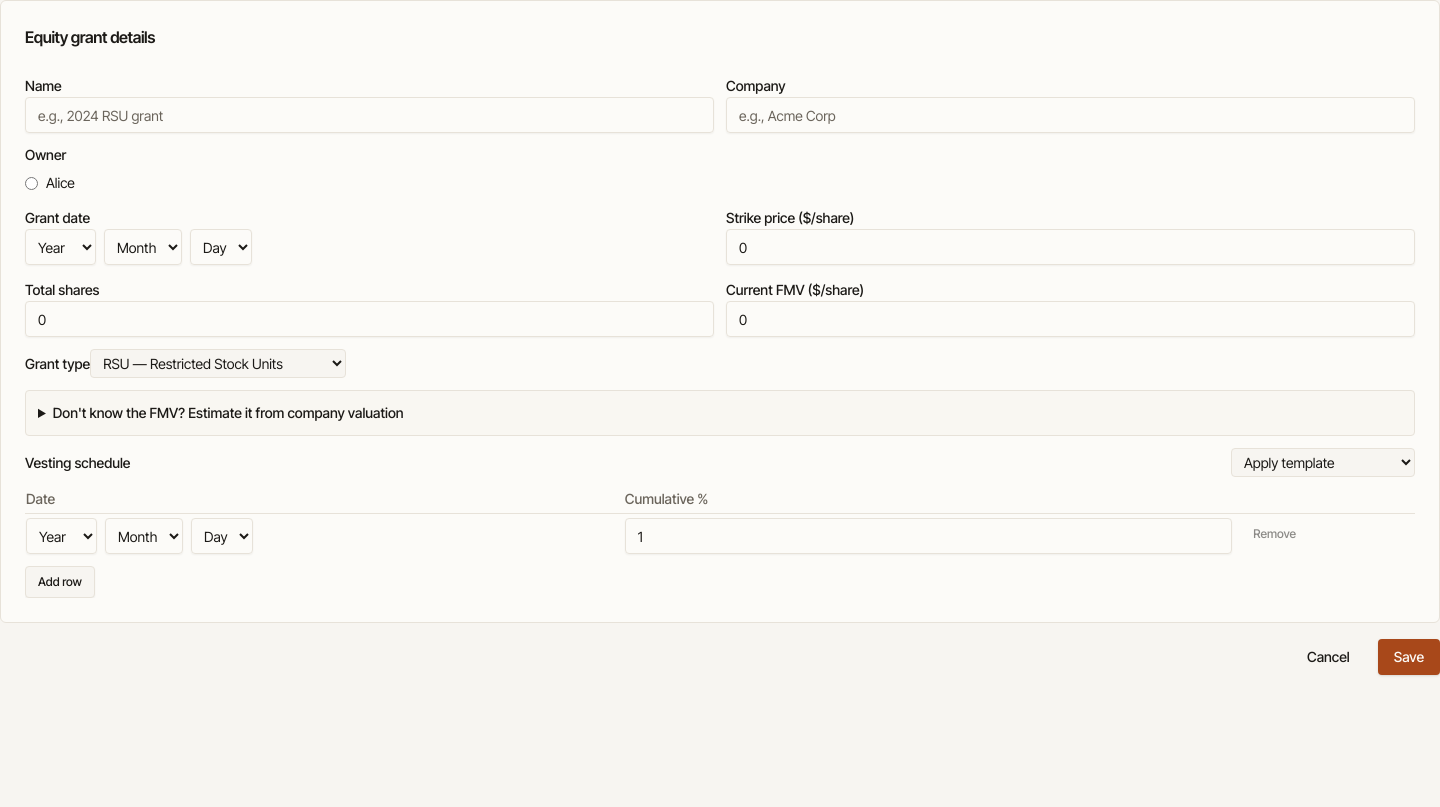
it: EquityGrantForm — calculator section › computes per-share value live as user types all three inputs
Click the heading "Don't know the FMV? Estimate it from company valuation" at coordinates (228, 412), box [53, 404, 404, 421]
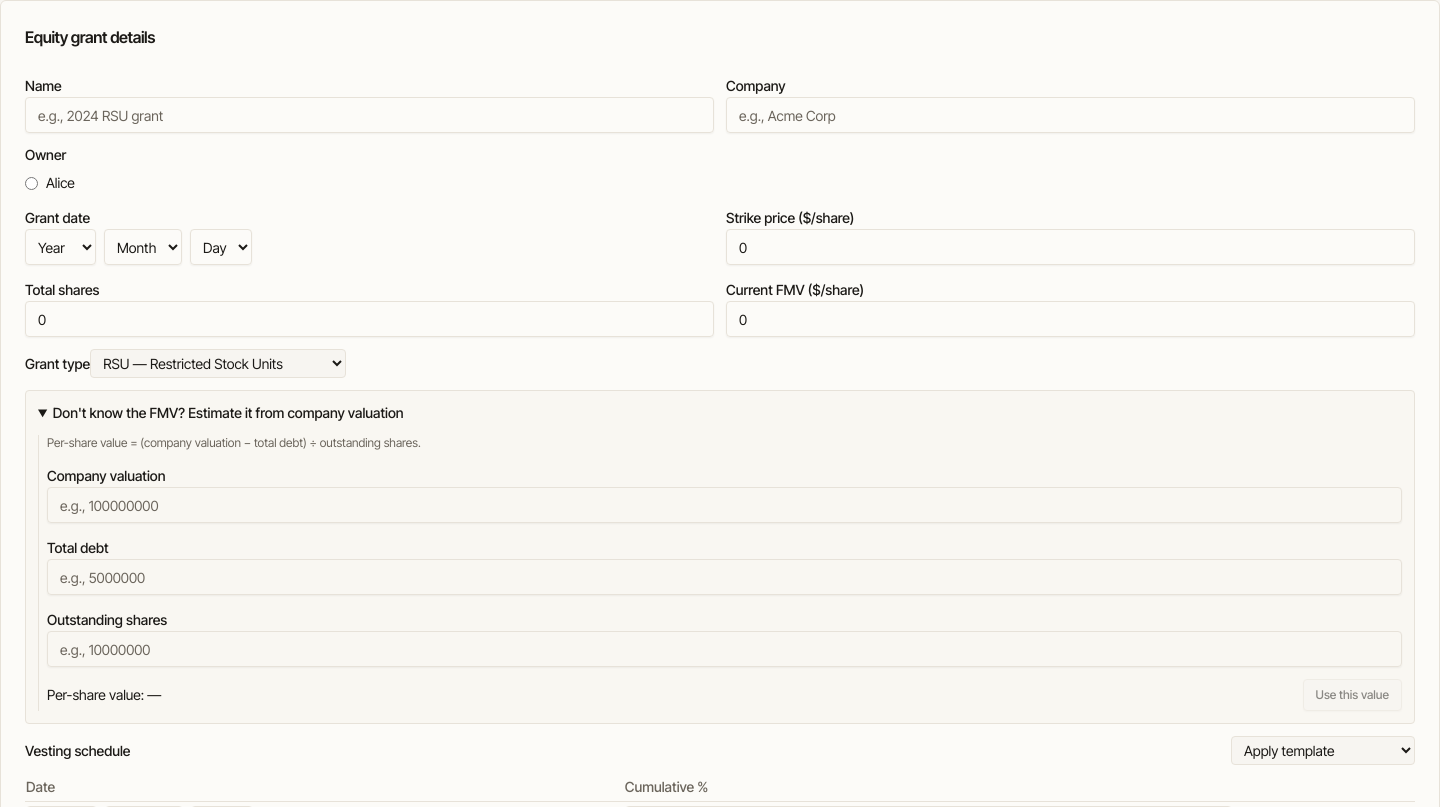
Type "10000000" into the number field labelled "Company valuation" at coordinates (724, 505), box [47, 487, 1402, 523]
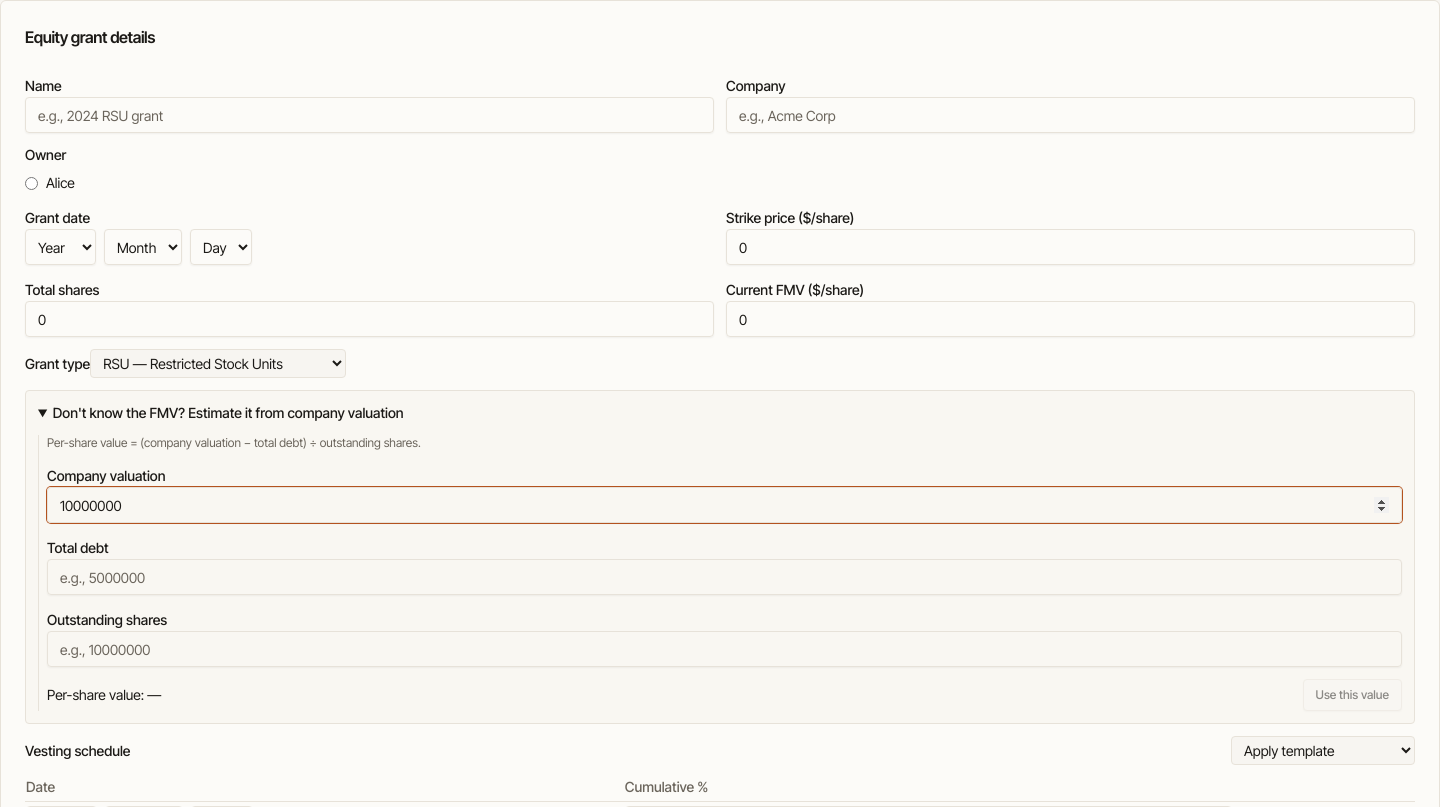
Type "2000000" into the number field labelled "Total debt" at coordinates (724, 577), box [47, 559, 1402, 595]
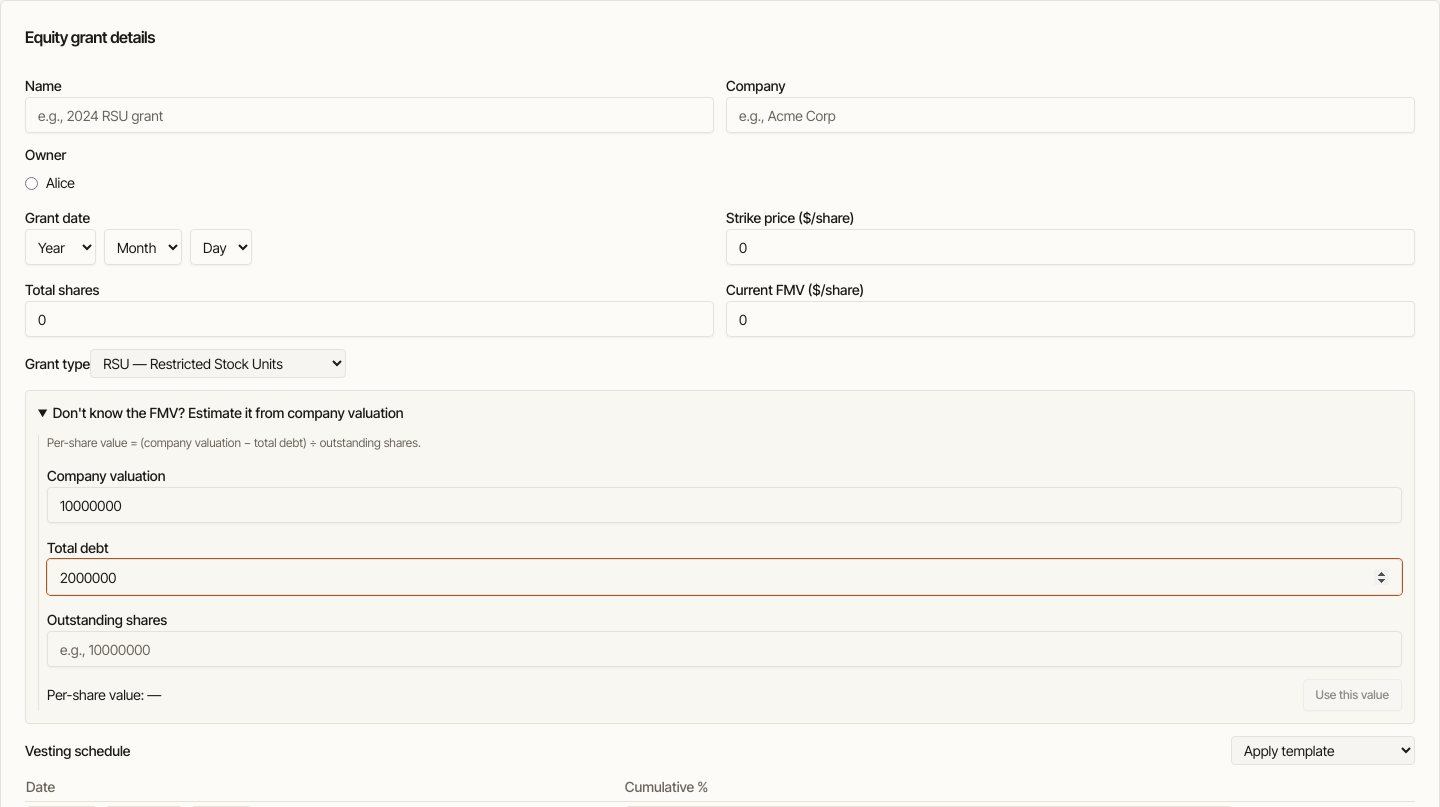
Type "5000000" into the number field labelled "Outstanding shares" at coordinates (724, 649), box [47, 631, 1402, 667]
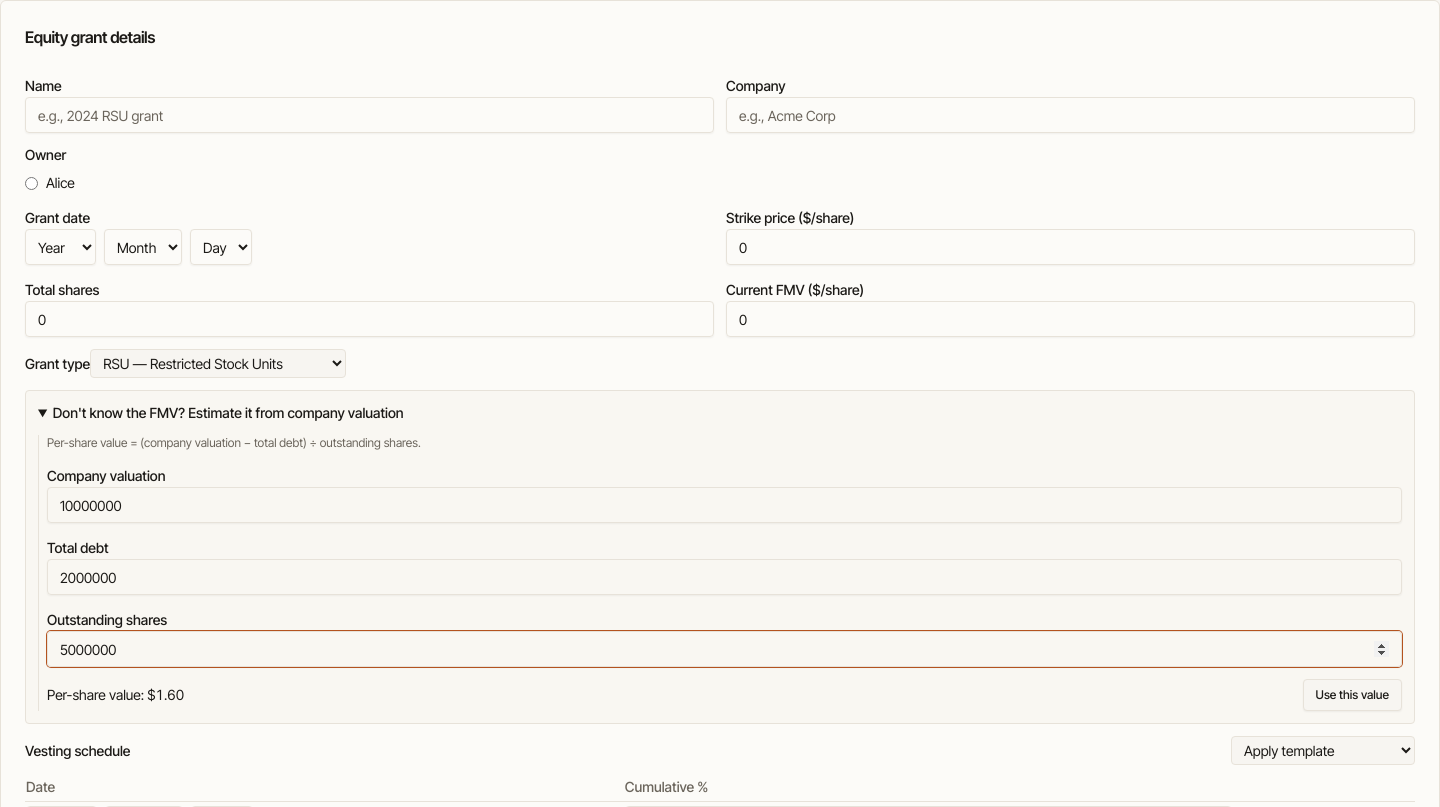
Now the text "$1.60" is shown, box [147, 686, 184, 703]
